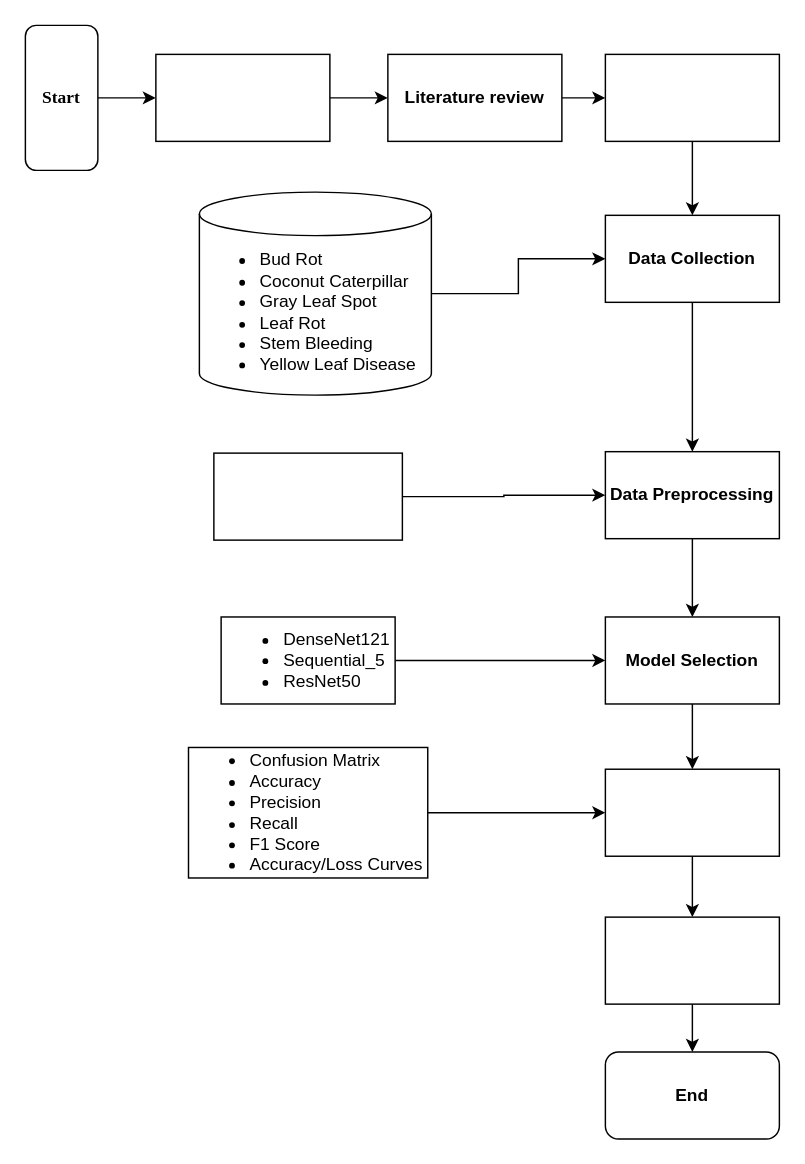
The diagram is 805 pixels wide and 1164 high, and some of its shapes have lost their labels. The centre of each missing label's shape, as x and y in pixels:
"Background Study" goes at point 691,97.
"Feild Study" goes at point 242,97.
"Performance Evaluation" goes at point 691,812.
"Resizing Normalization Labeling Augmentation" goes at point 307,496.
"XAI implementation" goes at point 691,960.
